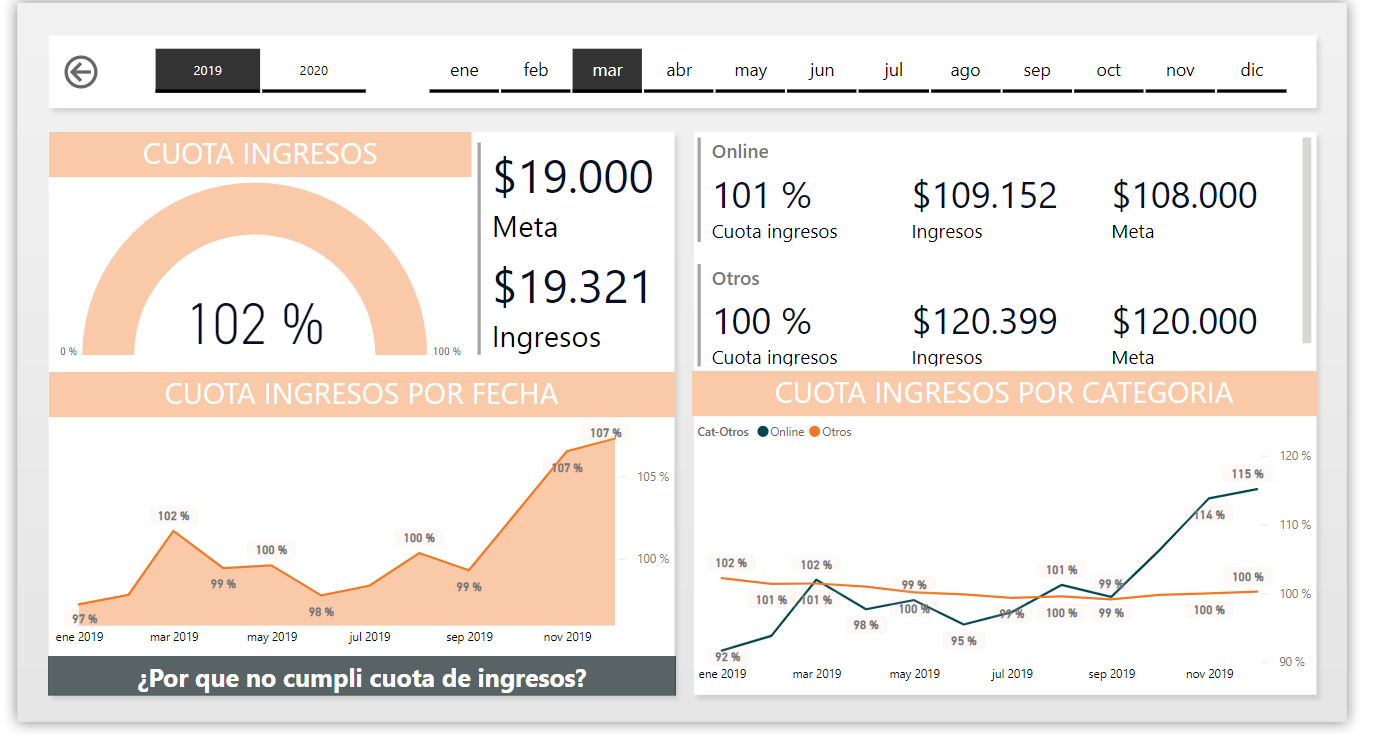

The page's visual inventory and layout, read from the dashboard file:
{"tool":"powerbi","page":{"name":"Cuota de Ingresos","canvas":[1280,720],"ordinal":2},"visuals":[{"type":"image","box":[0,0,1280,720],"z":0},{"type":"multiRowCard","fields":{"Values":["Medidas.Meta","Medidas.Ingresos"]},"box":[450,153.3,181.1,213.3],"z":1000},{"type":"slicer","fields":{"Values":["Calendarios.Fecha.Variation.Date Hierarchy.Year"]},"box":[136.7,66.7,241.1,54.4],"z":2000},{"type":"slicer","fields":{"Values":["Calendarios.Abv Mes"]},"box":[385.6,66.7,828.9,54.4],"z":3000},{"type":"gauge","title":"CUOTA INGRESOS","fields":{"Y":["Cuotas %.Cuota ingresos"]},"box":[65.6,148.9,384.4,217.8],"z":4000},{"type":"multiRowCard","title":"Cuota Ingresos por Categoria","fields":{"Values":["Categoria.Cat-Otros","Cuotas %.Cuota ingresos","Medidas.Ingresos","Medidas.Meta"]},"box":[650,148.9,567.8,217.8],"z":5000},{"type":"areaChart","title":"CUOTA INGRESOS POR FECHA","fields":{"Category":["Calendarios.Fecha"],"Y2":["Cuotas %.Cuota ingresos"]},"box":[65.7,367.1,568.6,258.6],"z":6000},{"type":"lineChart","title":"CUOTA INGRESOS POR CATEGORIA","fields":{"Category":["Calendarios.Fecha"],"Y2":["Cuotas %.Cuota ingresos"],"Series":["Categoria.Cat-Otros"]},"box":[650,366.7,567.8,293.3],"z":7000},{"type":"actionButton","box":[74.4,74.4,47.8,40],"z":8000},{"type":"actionButton","box":[64.5,625.5,570.9,36.4],"z":9000}]}

Visuals, with their boxes on the page's 1280x720 design canvas (x1, y1, x2, y2). These are canvas units, not pixel positions in the 1373x746 screenshot, which may show the page scaled, cropped or inside an application window:
image: bbox=(0, 0, 1280, 720)
multiRowCard - Medidas.Meta x Medidas.Ingresos: bbox=(450, 153, 631, 367)
slicer - Calendarios.Fecha.Variation.Date Hierarchy.Year: bbox=(137, 67, 378, 121)
slicer - Calendarios.Abv Mes: bbox=(386, 67, 1214, 121)
"CUOTA INGRESOS" gauge: bbox=(66, 149, 450, 367)
"Cuota Ingresos por Categoria" multiRowCard: bbox=(650, 149, 1218, 367)
"CUOTA INGRESOS POR FECHA" areaChart: bbox=(66, 367, 634, 626)
"CUOTA INGRESOS POR CATEGORIA" lineChart: bbox=(650, 367, 1218, 660)
actionButton: bbox=(74, 74, 122, 114)
actionButton: bbox=(64, 626, 635, 662)
